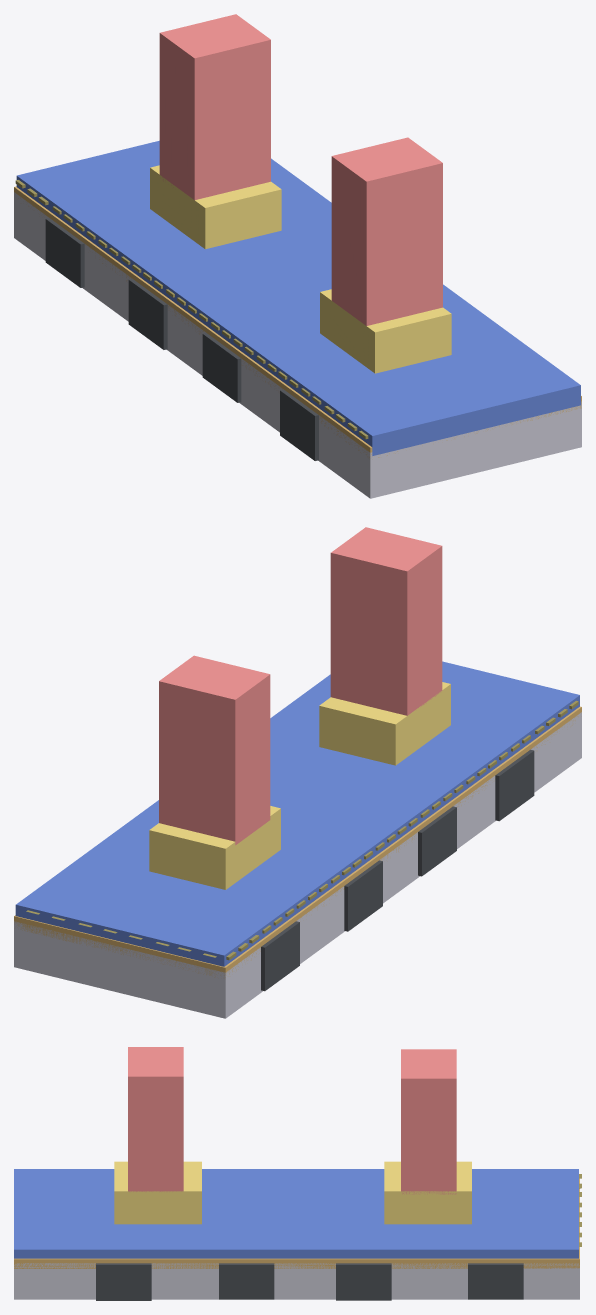
Rendered from inter.glb.
3 renders of one model, top to bottom at view 1: azimuth 30°, elevation 25°; view 2: azimuth 150°, elevation 25°; view 3: azimuth 270°, elevation 25°, orthographic. The views are drawn at different scales.
Parts seen in each view (by area): view 1: Cube.005, Cube.047, Cube, Cube.048, Cube.004, Cube.049, Cube.001, Cube.003, Cube.007, Cube.002, Cube.042; view 2: Cube.005, Cube, Cube.047, Cube.048, Cube.049, Cube.004, Cube.001, Cube.007, Cube.003, Cube.002, Cube.042; view 3: Cube.005, Cube, Cube.047, Cube.048, Cube.001, Cube.004, Cube.049, Cube.003, Cube.007, Cube.002, Cube.042.
Part boxes in pixels (bbox=[...]): Cube.005: bbox=[16, 140, 580, 455]; Cube.047: bbox=[331, 137, 442, 325]; Cube: bbox=[14, 192, 581, 498]; Cube.048: bbox=[159, 14, 270, 200]; Cube.004: bbox=[150, 165, 281, 249]; Cube.049: bbox=[320, 289, 451, 373]; Cube.001: bbox=[14, 186, 581, 459]; Cube.003: bbox=[128, 279, 167, 349]; Cube.007: bbox=[280, 389, 318, 460]; Cube.002: bbox=[202, 333, 241, 402]; Cube.042: bbox=[45, 218, 84, 287]; Cube.005: bbox=[15, 661, 579, 966]; Cube: bbox=[14, 712, 581, 1018]; Cube.047: bbox=[330, 527, 442, 715]; Cube.048: bbox=[159, 655, 270, 845]; Cube.049: bbox=[319, 682, 450, 765]; Cube.004: bbox=[149, 806, 280, 889]; Cube.001: bbox=[14, 706, 581, 977]; Cube.007: bbox=[495, 749, 534, 821]; Cube.003: bbox=[344, 860, 382, 931]; Cube.002: bbox=[418, 806, 456, 876]; Cube.042: bbox=[261, 921, 299, 991]; Cube.005: bbox=[14, 1169, 578, 1258]; Cube: bbox=[14, 1263, 579, 1299]; Cube.047: bbox=[128, 1047, 183, 1191]; Cube.048: bbox=[401, 1049, 456, 1194]; Cube.001: bbox=[14, 1178, 579, 1268]; Cube.004: bbox=[384, 1161, 471, 1224]; Cube.049: bbox=[114, 1161, 201, 1224]; Cube.003: bbox=[336, 1263, 391, 1300]; Cube.007: bbox=[96, 1263, 151, 1300]; Cube.002: bbox=[219, 1263, 274, 1299]; Cube.042: bbox=[468, 1263, 523, 1299].
Bounding box in the file's own units: 2.08 × 2.24 × 5.86.
